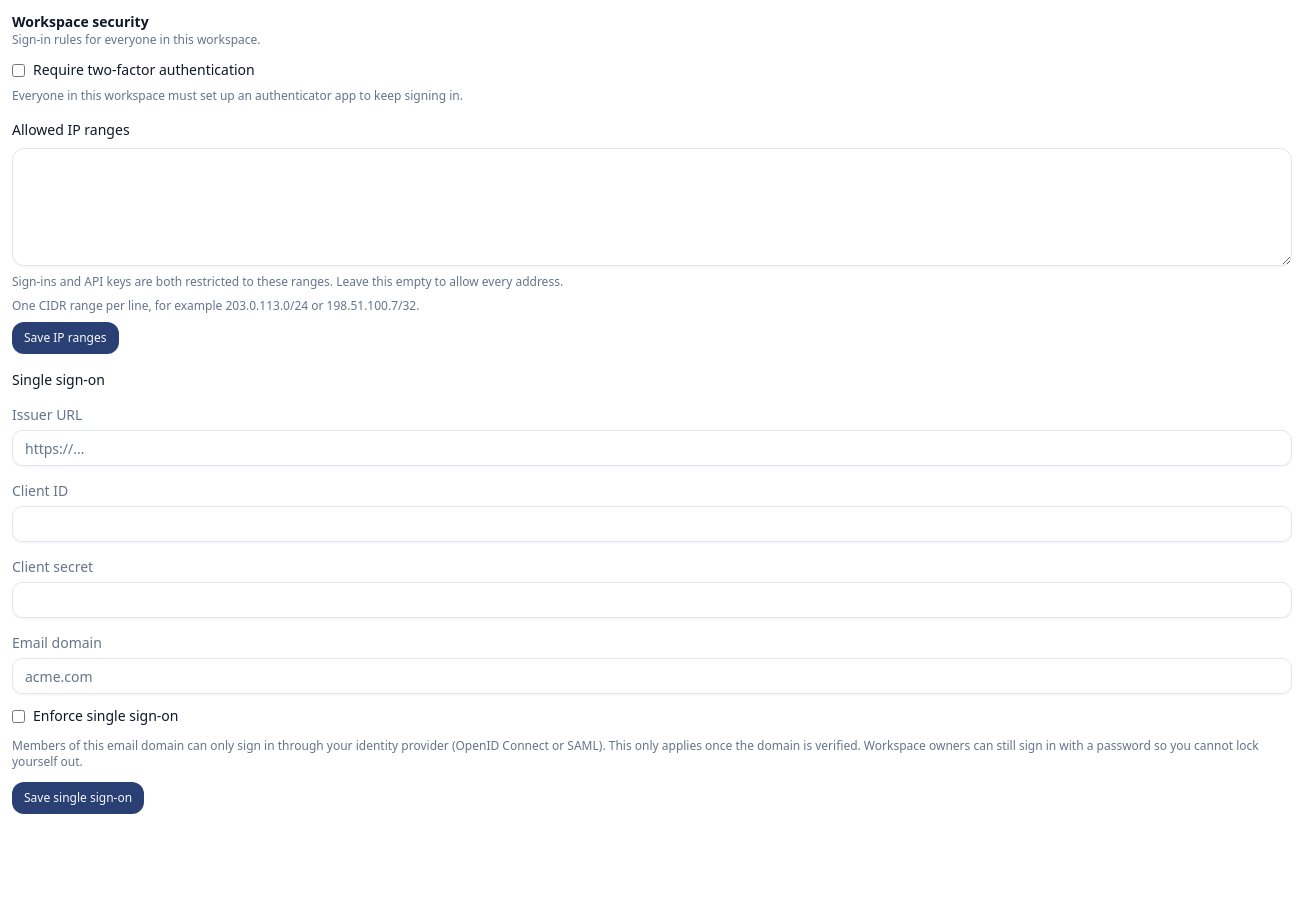
Test: OrgSecurityPolicyCard › a 422 ip_allowlist_would_lock_you_out lands under the IP ranges box
Type "10.0.0.0/8" into the text box named "Allowed IP ranges" at (652,207), box 12,148 -> 1292,266
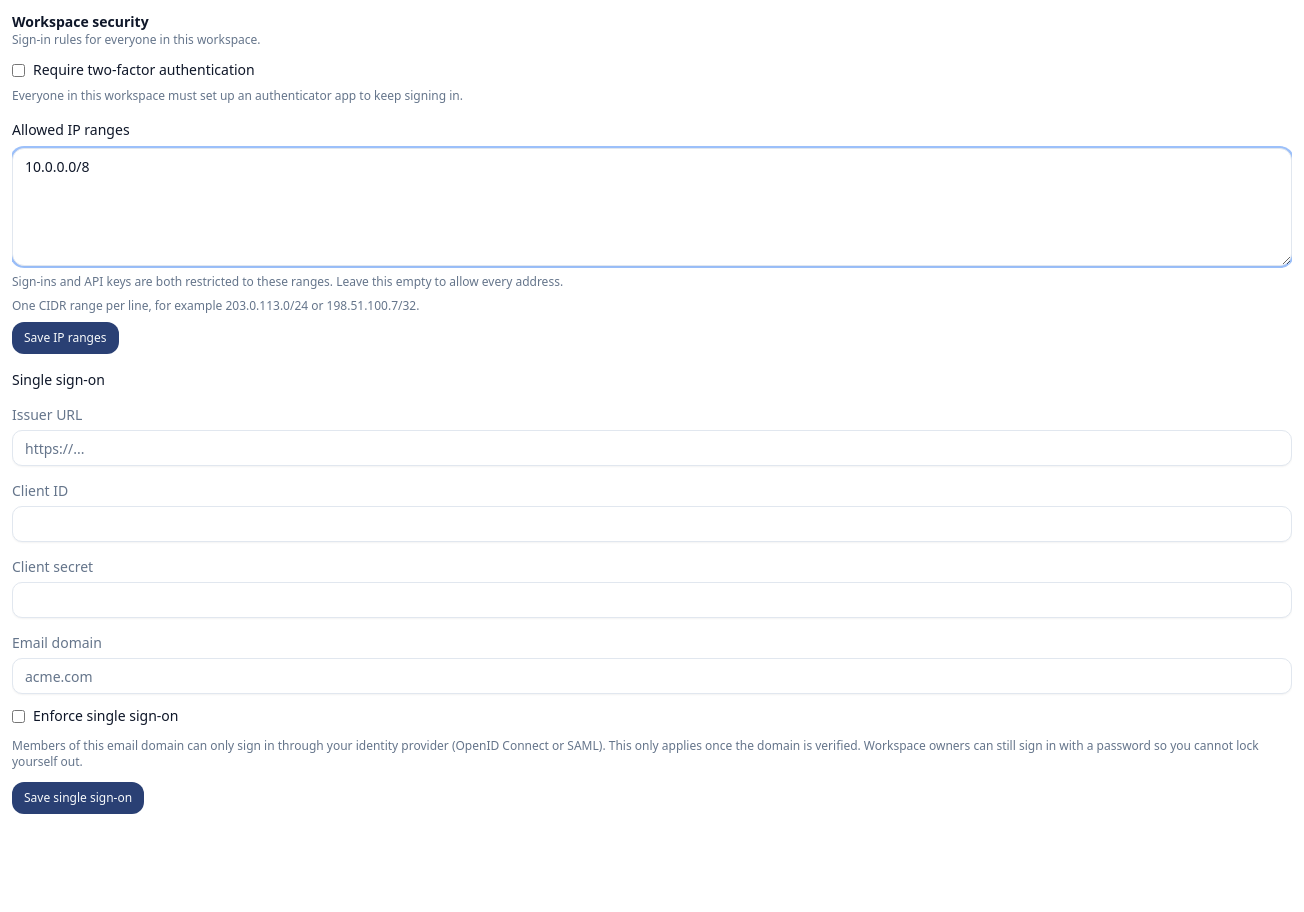
Click the button "Save IP ranges" at (65,338), box 12,322 -> 118,354
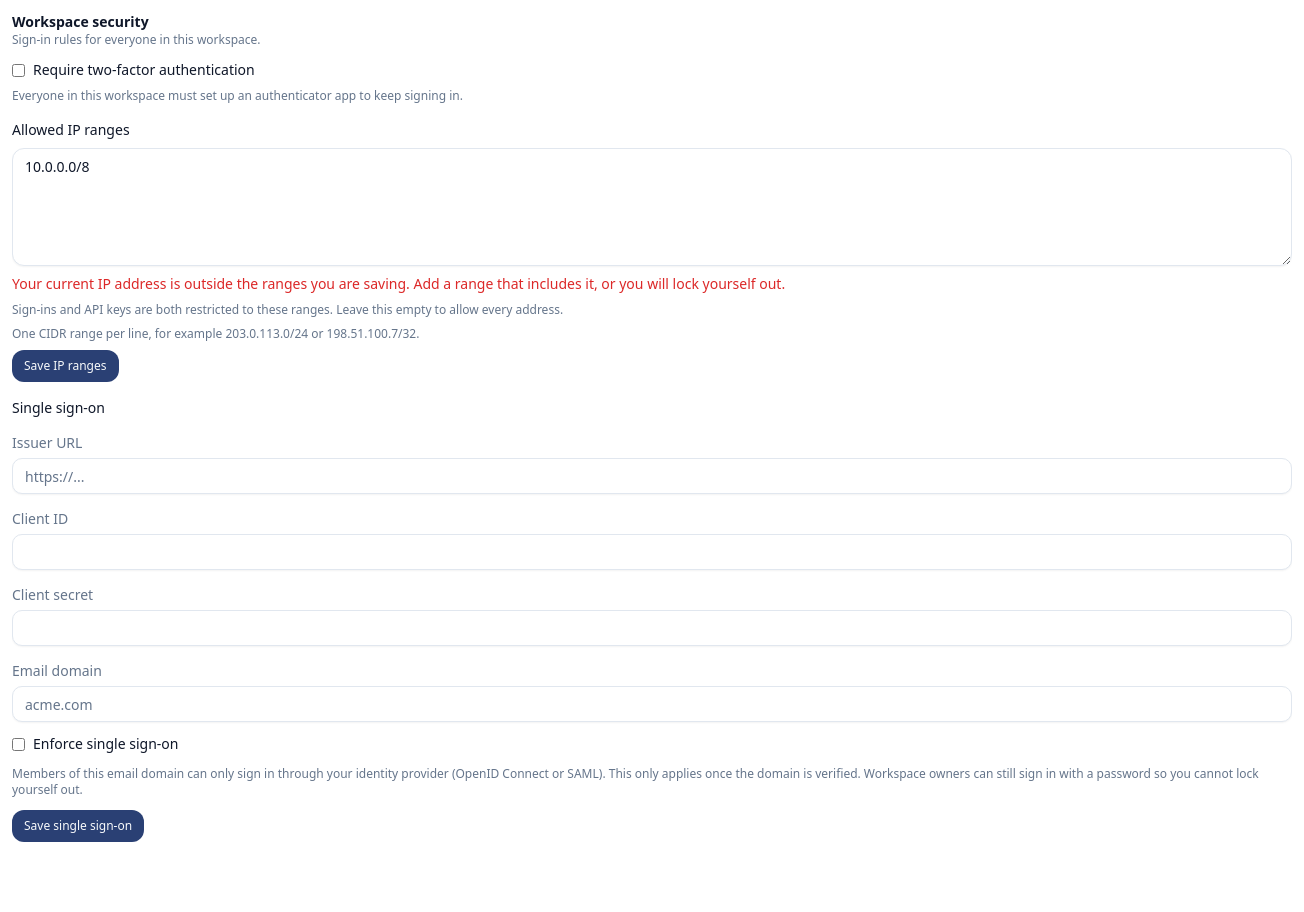
Now the number of messages is 1, box 12,274 -> 785,293
Now the message shows "Your current IP address is outside the ranges you are saving. Add a range that includes it, or you will lock yourself out.", box 12,274 -> 785,293
